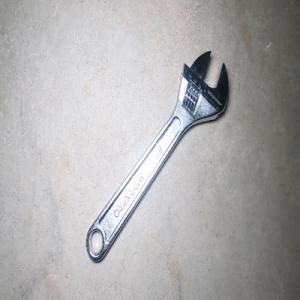Wrench: (86, 50, 228, 261)
